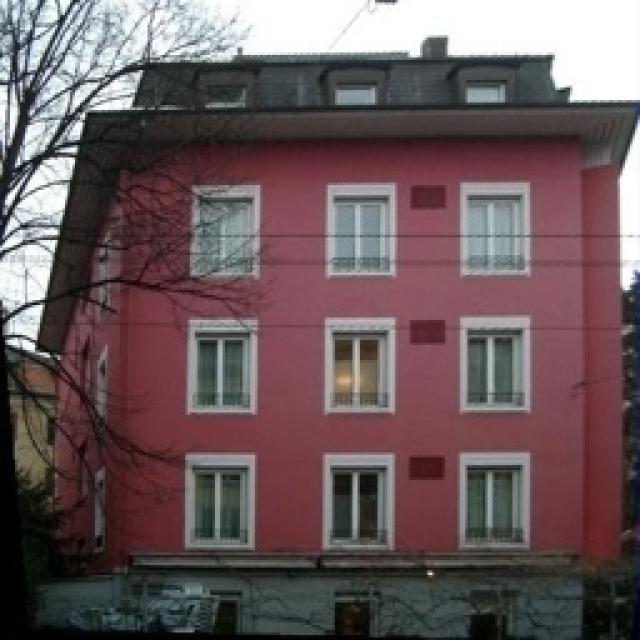Window: (335, 188, 390, 270), (335, 328, 390, 402), (195, 465, 248, 540), (470, 465, 522, 540), (468, 198, 520, 268), (470, 330, 522, 400), (335, 468, 385, 538), (200, 202, 250, 270), (197, 340, 245, 402), (337, 87, 375, 105), (208, 88, 242, 108), (468, 85, 502, 103)
